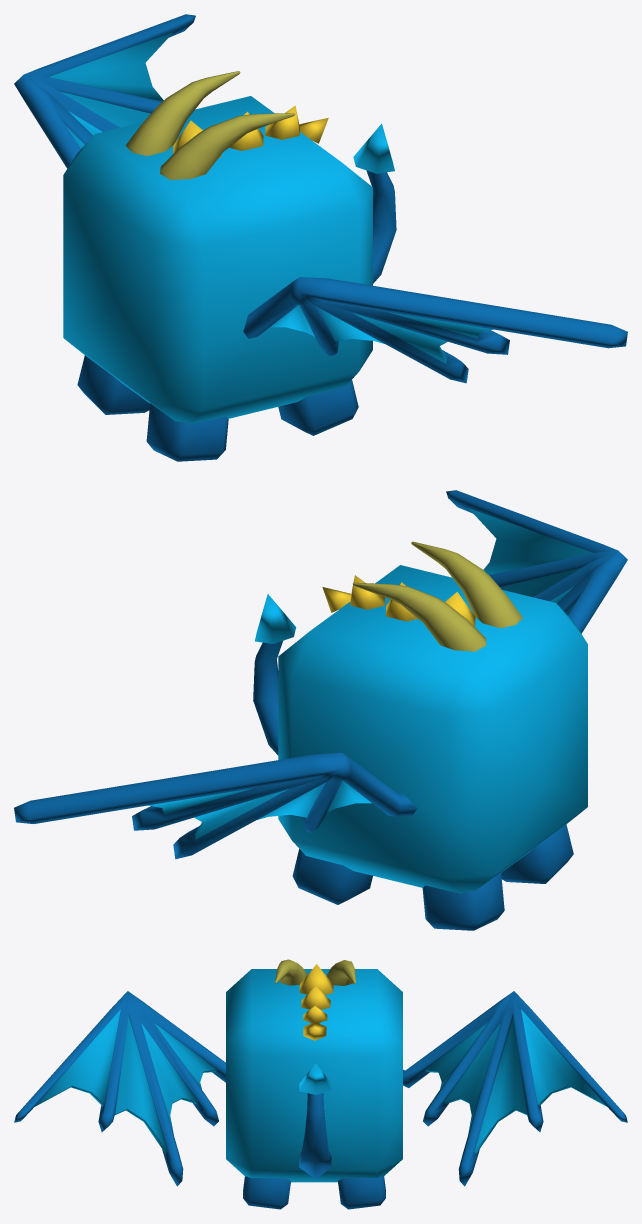
File: IceDragonLOW.fbx
3 views of the same model, one above another, from view 1: azimuth 30°, elevation 25°; view 2: azimuth 150°, elevation 25°; view 3: azimuth 270°, elevation 25° (orthographic). The views are drawn at different scales.
Visible parts, largest first — view 1: IceDragon; view 2: IceDragon; view 3: IceDragon.
Boxes of the visible parts, x1,y1,x2,y2 form: IceDragon: (14,14,627,461); IceDragon: (14,490,627,930); IceDragon: (14,959,627,1209).
Size of the model in its own units: 114 by 112 by 281.
